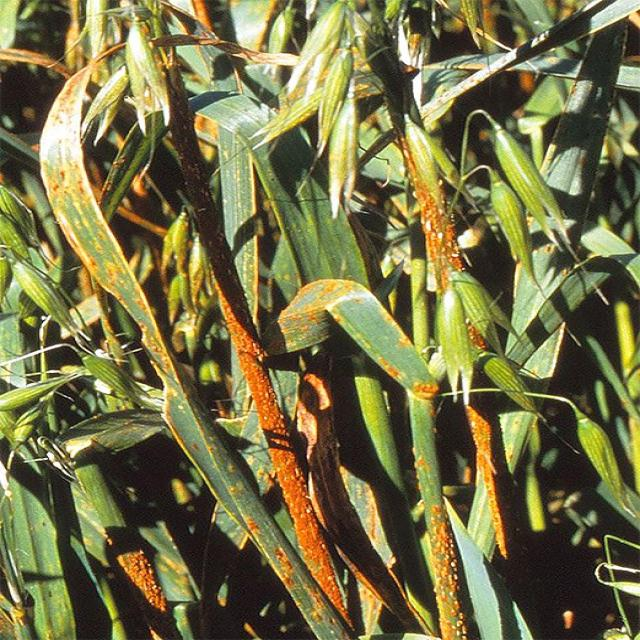wheat-stemrust: (213, 274, 359, 632), (37, 41, 128, 214), (403, 137, 466, 297), (261, 279, 375, 357), (425, 504, 483, 640), (467, 408, 507, 558), (116, 552, 167, 623), (133, 294, 177, 376), (308, 586, 340, 628), (275, 544, 300, 590), (467, 322, 496, 351), (375, 355, 404, 377), (411, 384, 445, 398), (244, 514, 261, 537)
